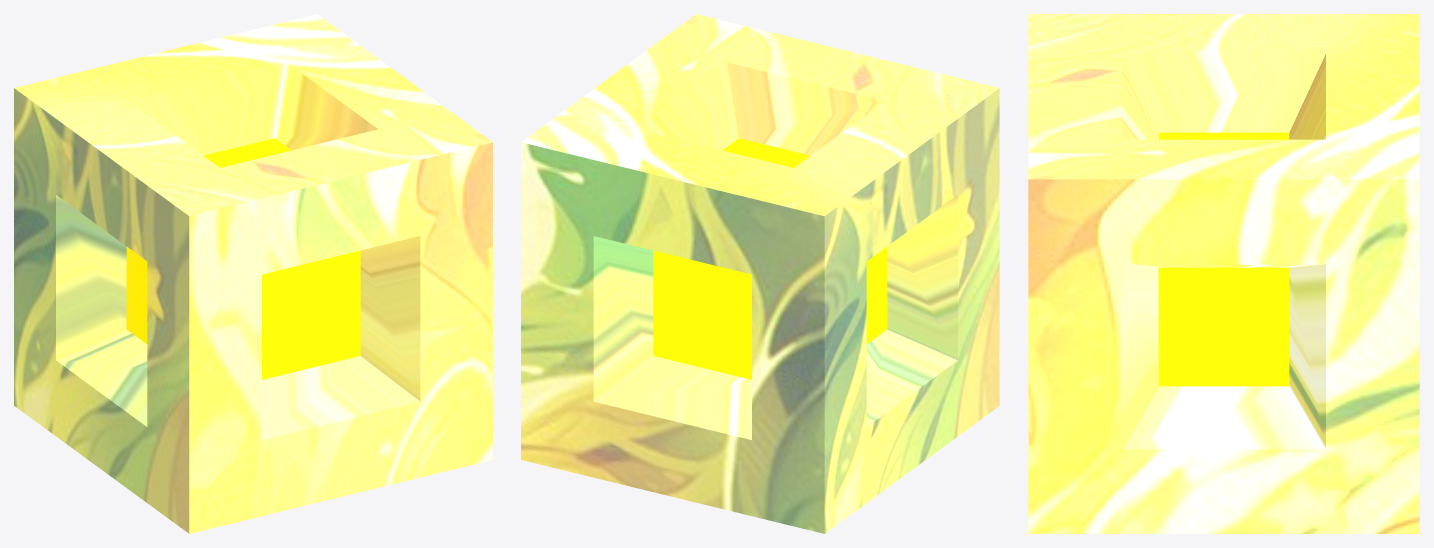
File: backCube2.glb
3 renders of one model, left to right at view 1: azimuth 30°, elevation 25°; view 2: azimuth 150°, elevation 25°; view 3: azimuth 270°, elevation 25°, orthographic. The views are drawn at different scales.
Parts seen in each view (by area): view 1: backCube2; view 2: backCube2; view 3: backCube2.
Part boxes in pixels (x1,y1,x2,y2): backCube2: (14, 14, 492, 533); backCube2: (521, 14, 999, 533); backCube2: (1028, 14, 1419, 533).
Bounding box in the file's own units: 2 × 2 × 2.
Materials: 2 (1 with a texture image).
